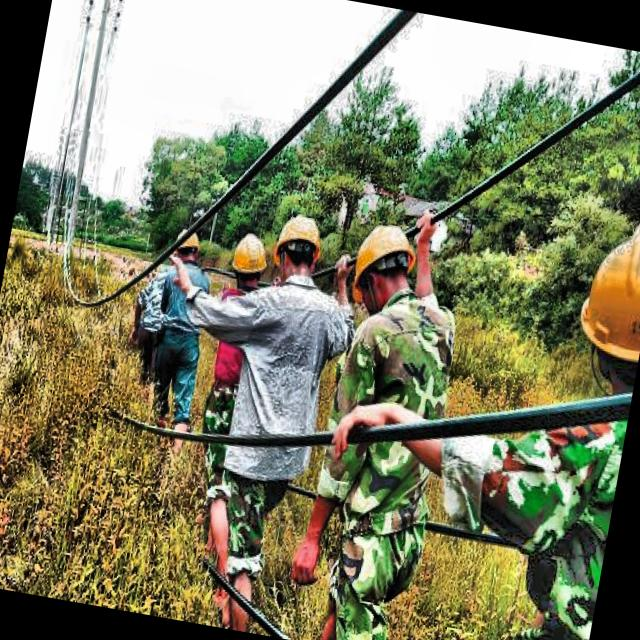helmet: (571, 205, 640, 403), (339, 210, 427, 322), (264, 207, 330, 291), (226, 228, 272, 296), (164, 214, 210, 272)
